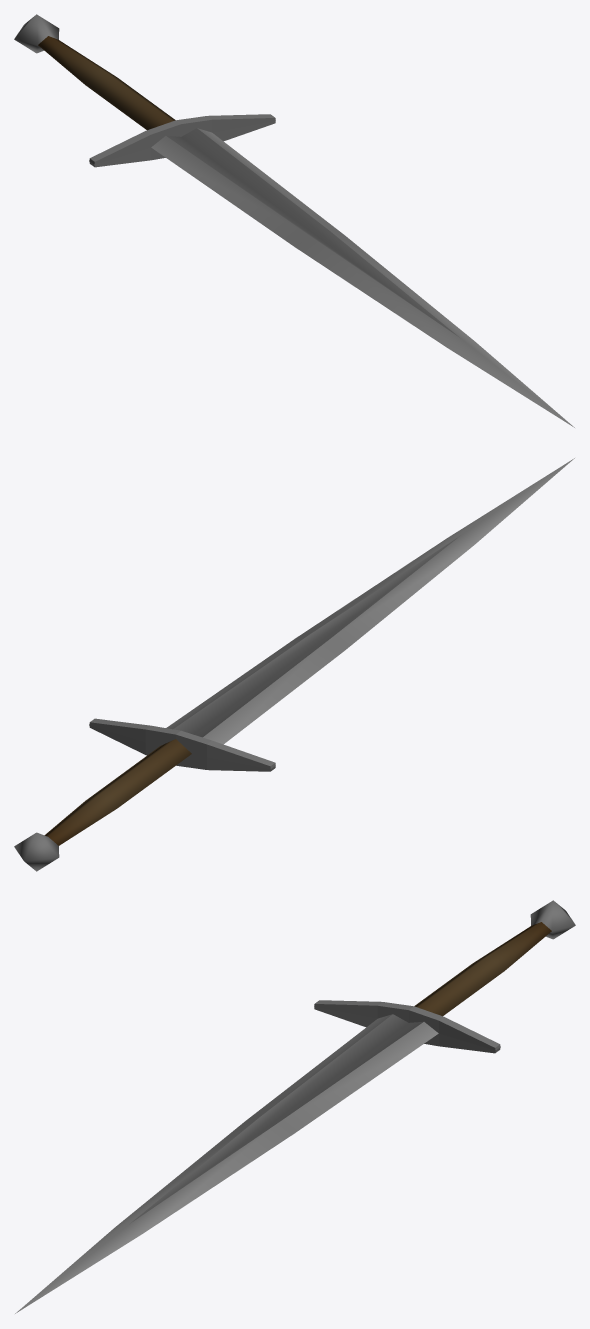
File: sword.glb
3 renders of one model, top to bottom at view 1: azimuth 30°, elevation 25°; view 2: azimuth 150°, elevation 25°; view 3: azimuth 330°, elevation 25°, orthographic.
Visible parts, largest first — view 1: Sword; view 2: Sword; view 3: Sword.
Part boxes in pixels (bbox=[...]): Sword: bbox=[14, 14, 574, 427]; Sword: bbox=[14, 458, 574, 871]; Sword: bbox=[15, 900, 575, 1313].
Bounding box in the file's own units: 0.5943 × 0.1229 × 3.13.
